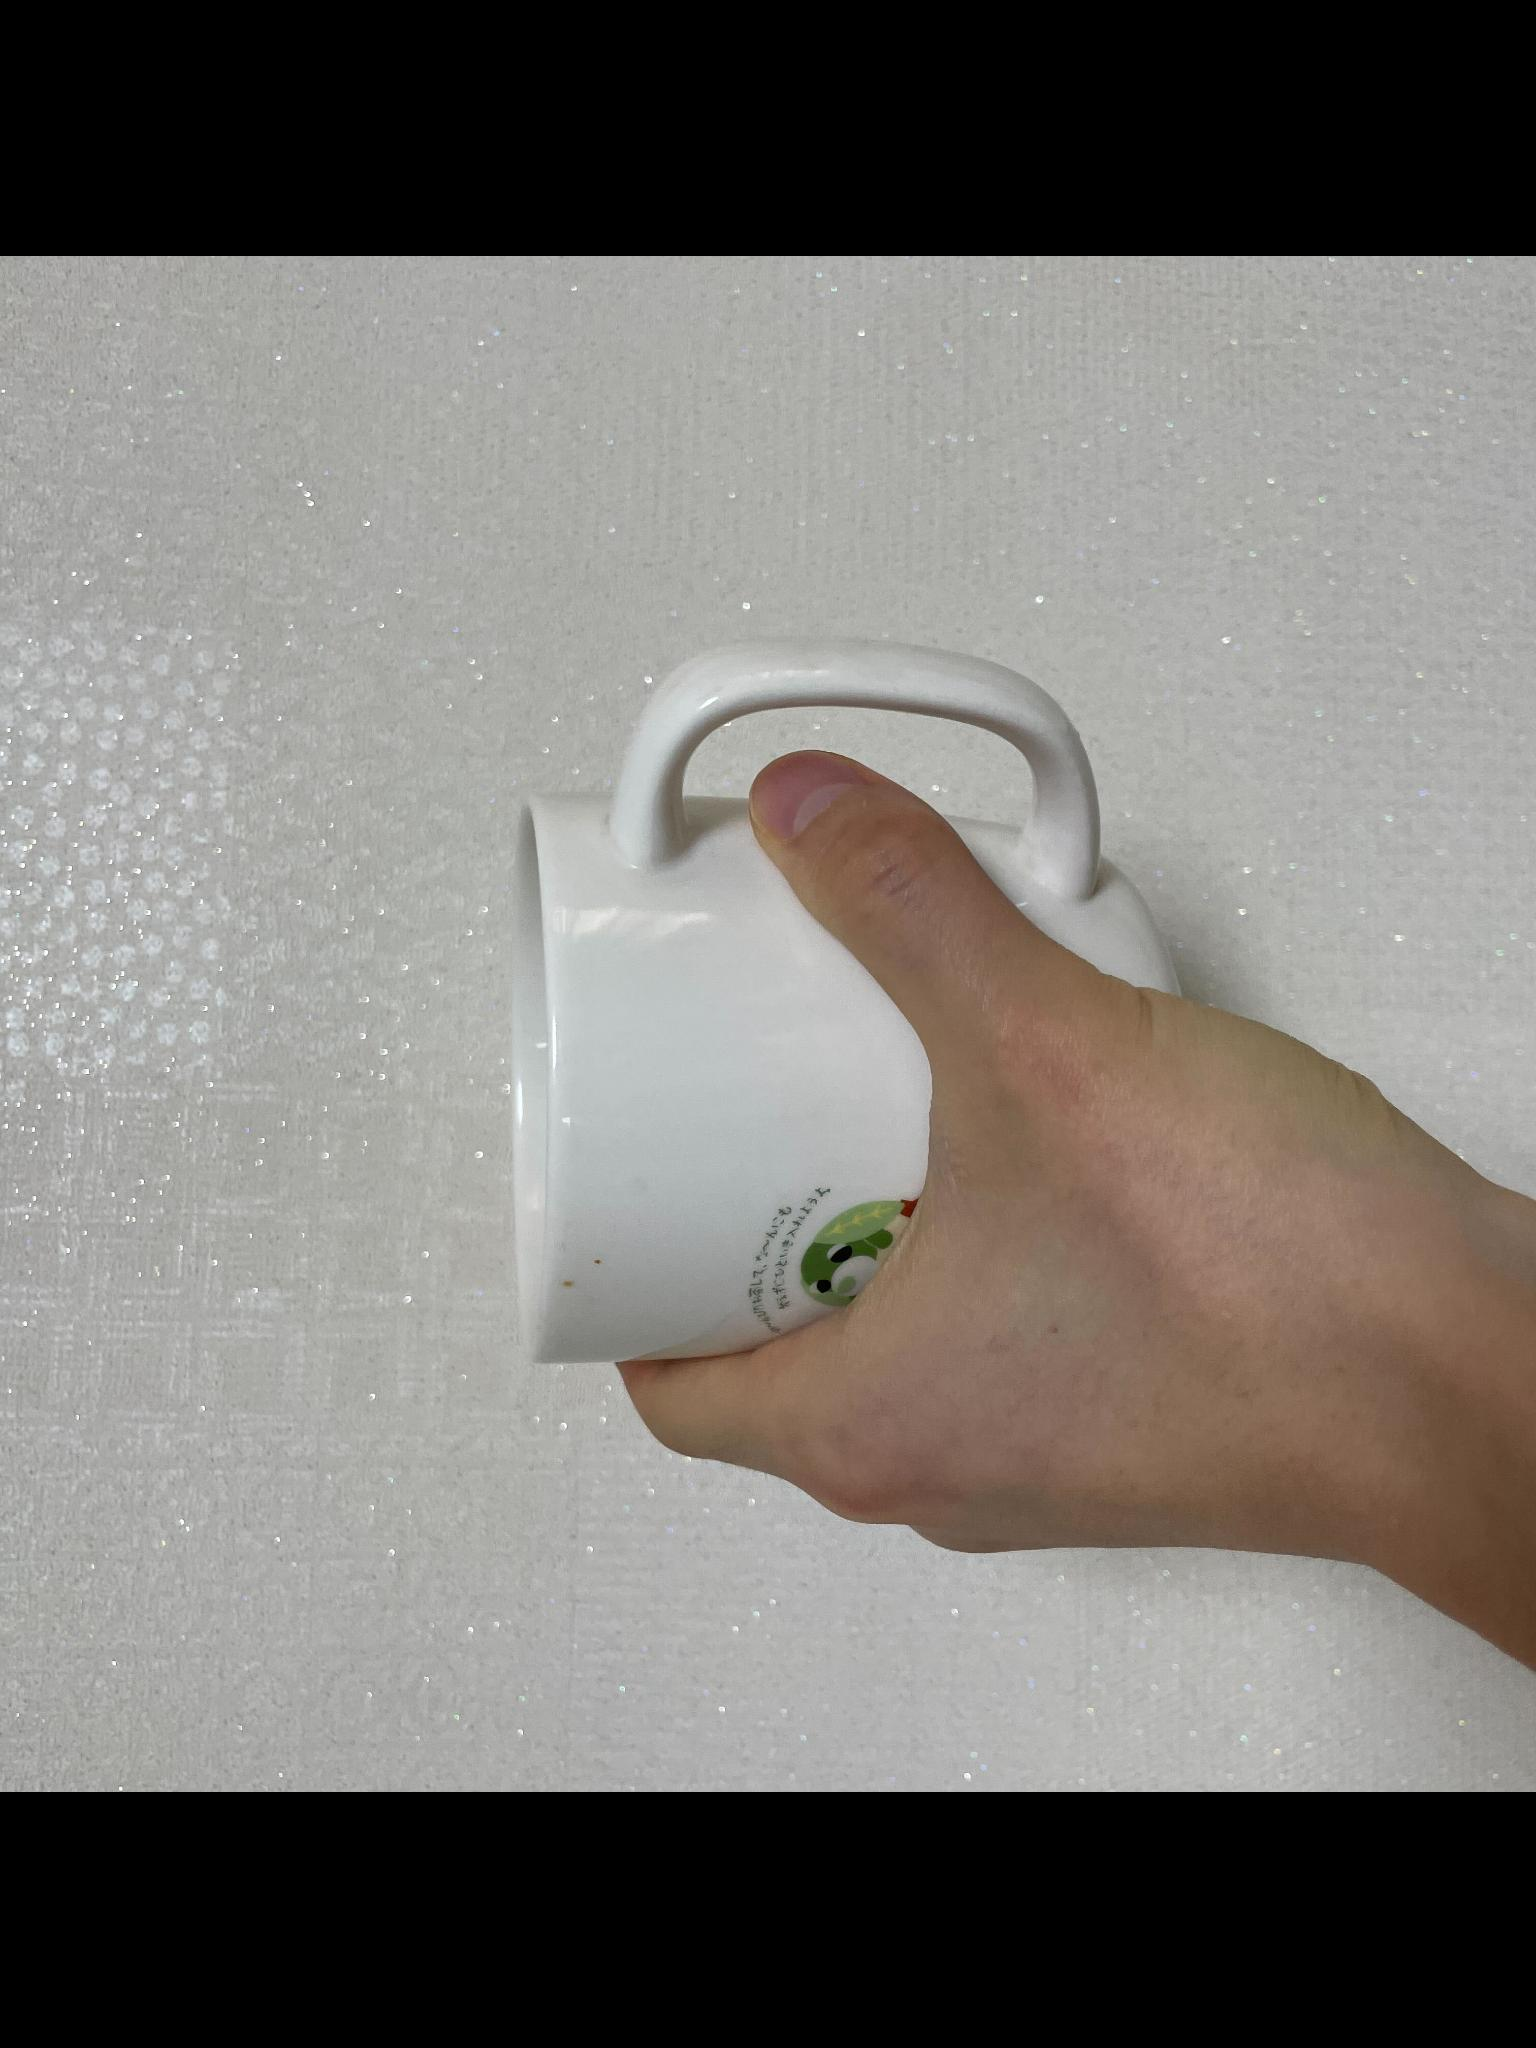cup: (494, 626, 1536, 1622)
